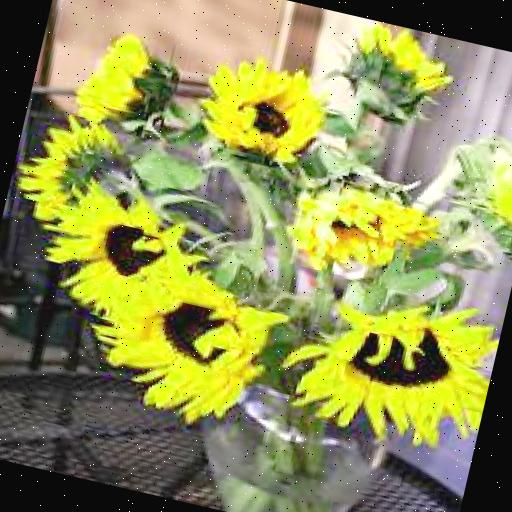sunflower: (274, 272, 504, 463), (84, 253, 292, 434), (30, 180, 203, 332), (288, 160, 444, 294), (192, 52, 338, 170), (12, 105, 140, 235), (318, 14, 458, 132), (475, 133, 512, 230)
